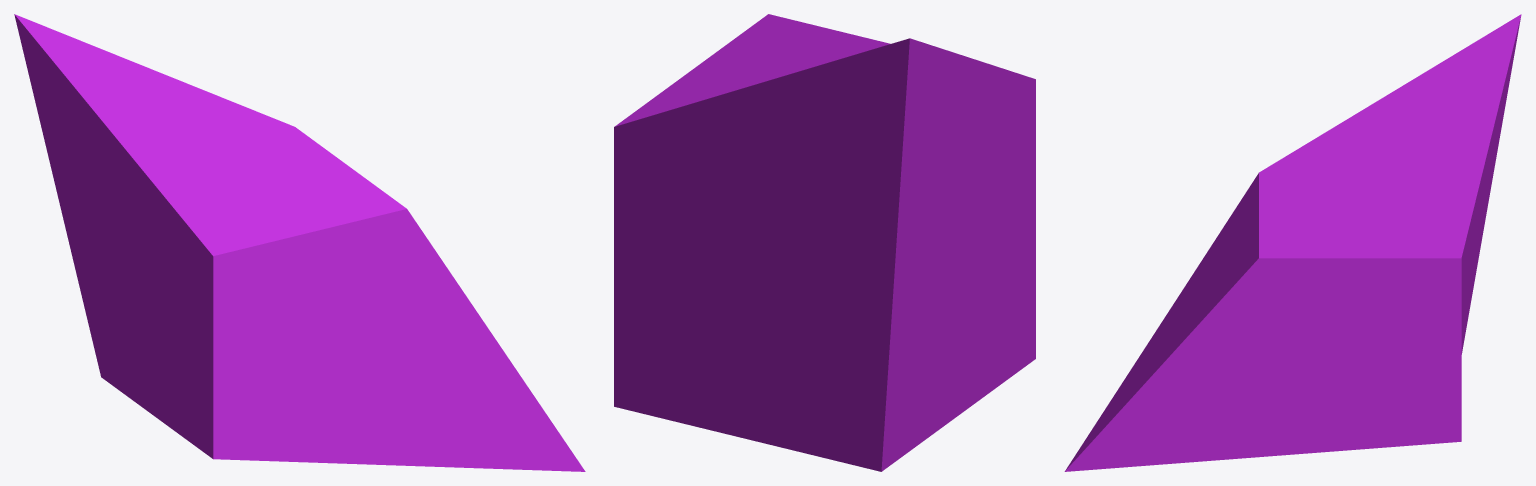
The model's file is random2.gltf.
The picture shows the model from 3 angles, left to right: view 1: azimuth 30°, elevation 25°; view 2: azimuth 150°, elevation 25°; view 3: azimuth 270°, elevation 25°; orthographic projection. The views are drawn at different scales.
Visible parts, largest first — view 1: Cube; view 2: Cube; view 3: Cube.
Boxes of the visible parts, <box> form: Cube: <box>14,14,585,471</box>; Cube: <box>614,14,1035,471</box>; Cube: <box>1064,14,1521,471</box>.
Size of the model in its own units: 3.29 by 3.47 by 4.51.
